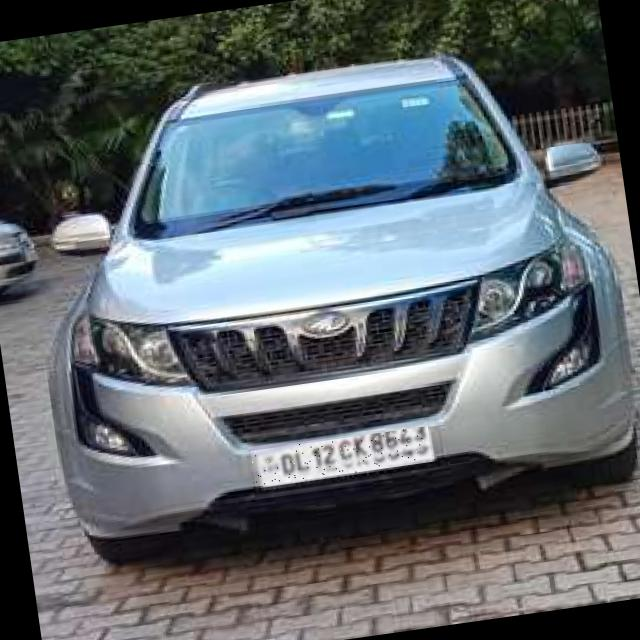Plate: (252, 427, 434, 488)
